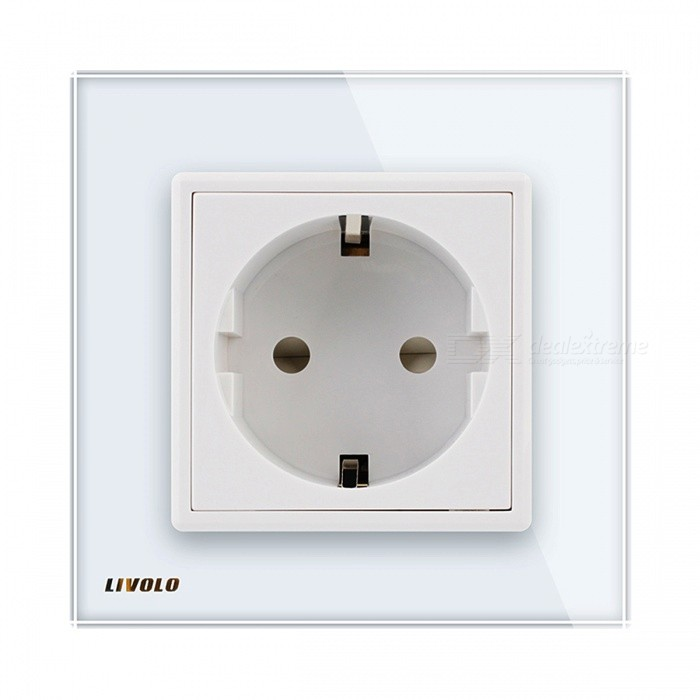raccoon: (210, 205, 494, 498)
